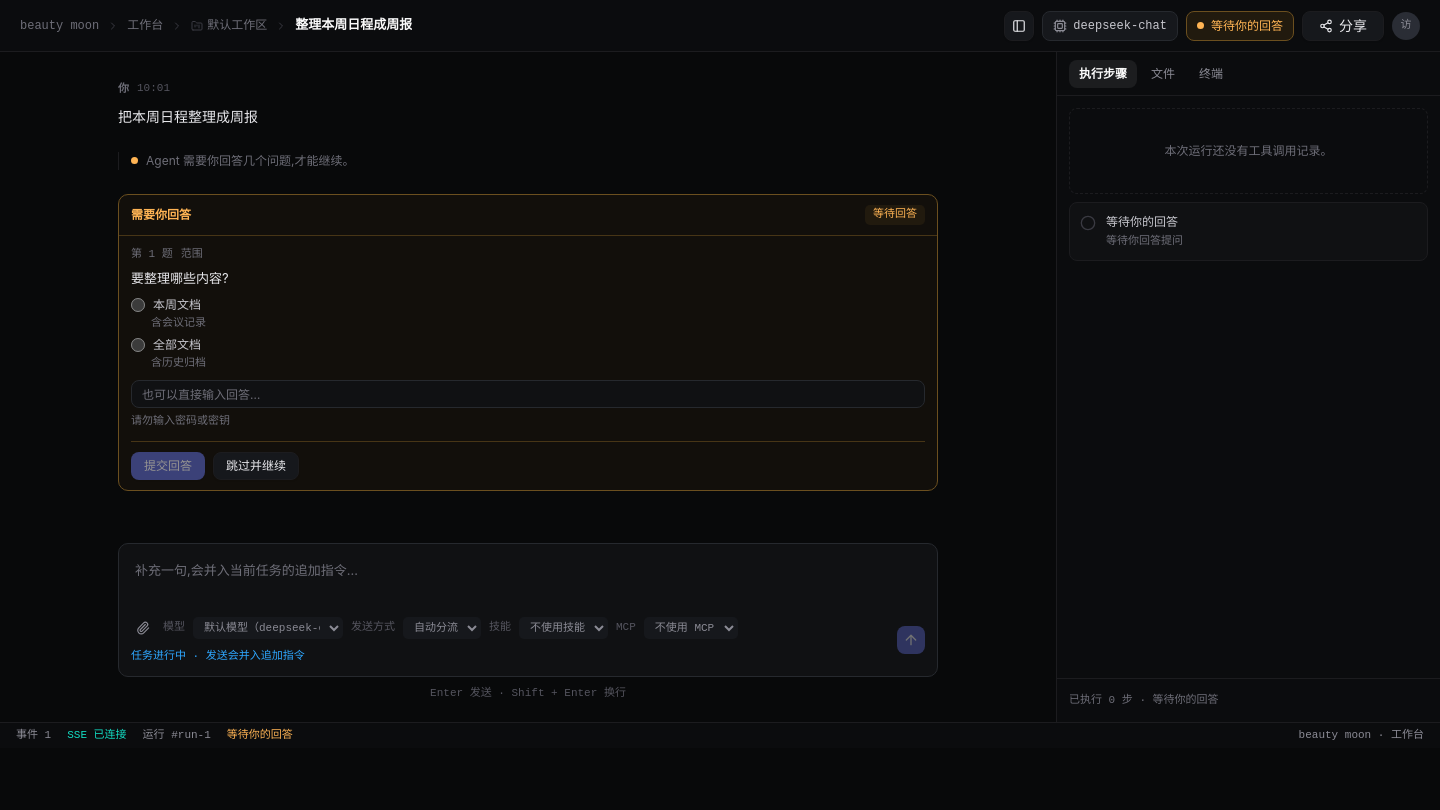
Test: ChatPage 挂起提问卡片 › 等待回答时渲染问题并提交 answer 请求
Expected: the text "需要你回答" is shown, [131,206,191,224]
Expected: the text "等待你的回答" is shown, [1186,10,1294,40]
Click the radio button labelled "本周文档" at (138, 305), box [131,298,145,312]
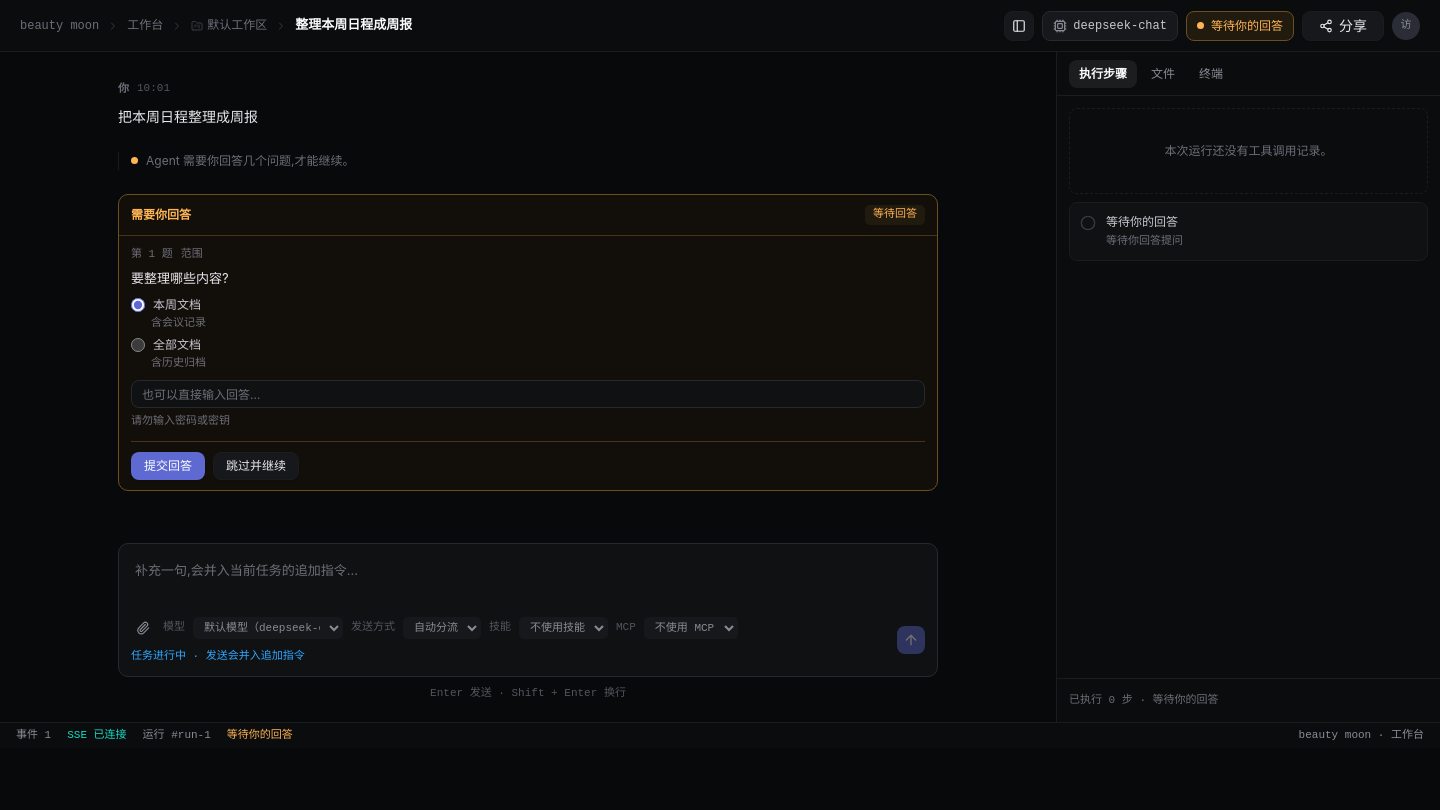
Click the button "提交回答" at (168, 466), box [131,452,205,480]
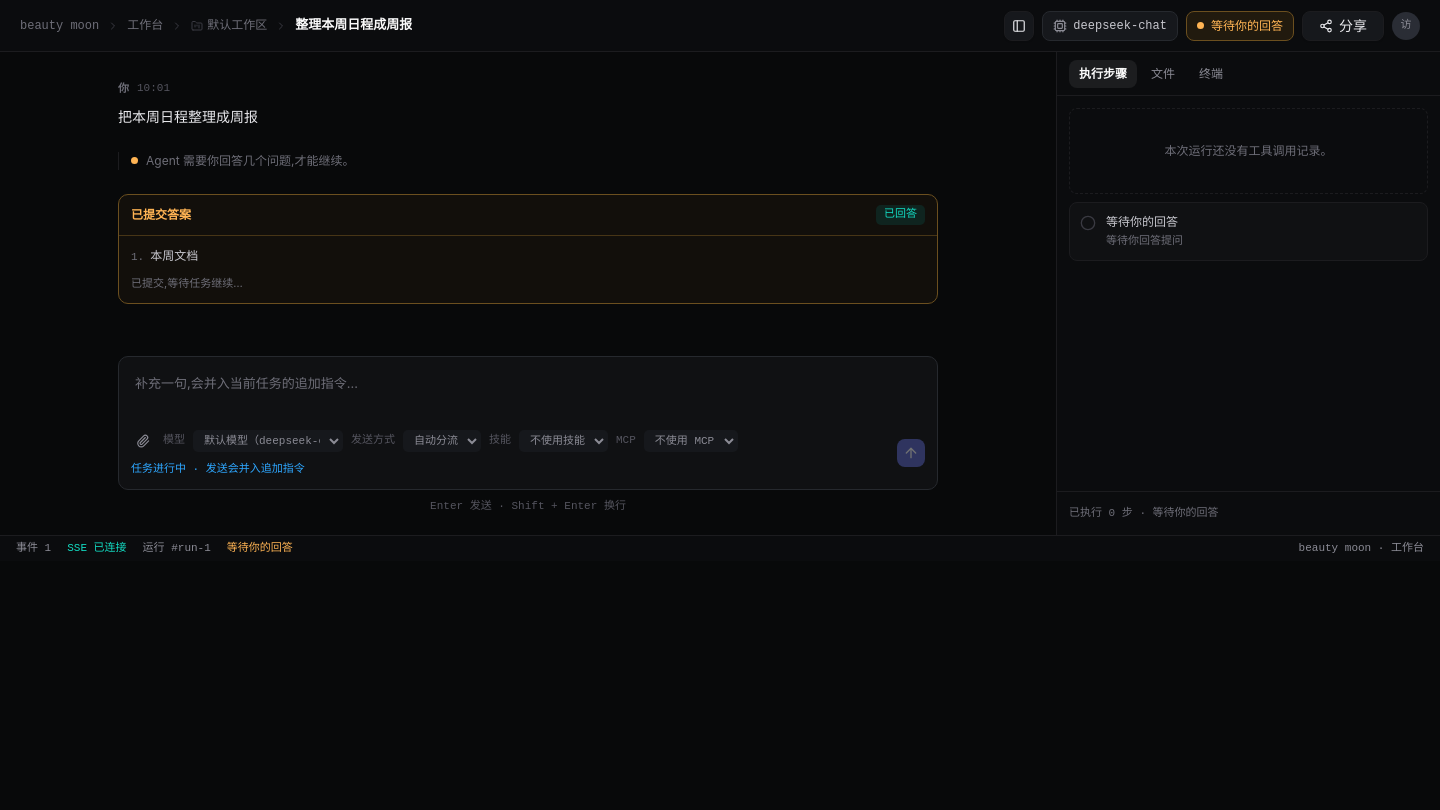
Expected: the text "已提交答案" is shown, [131,206,191,224]
